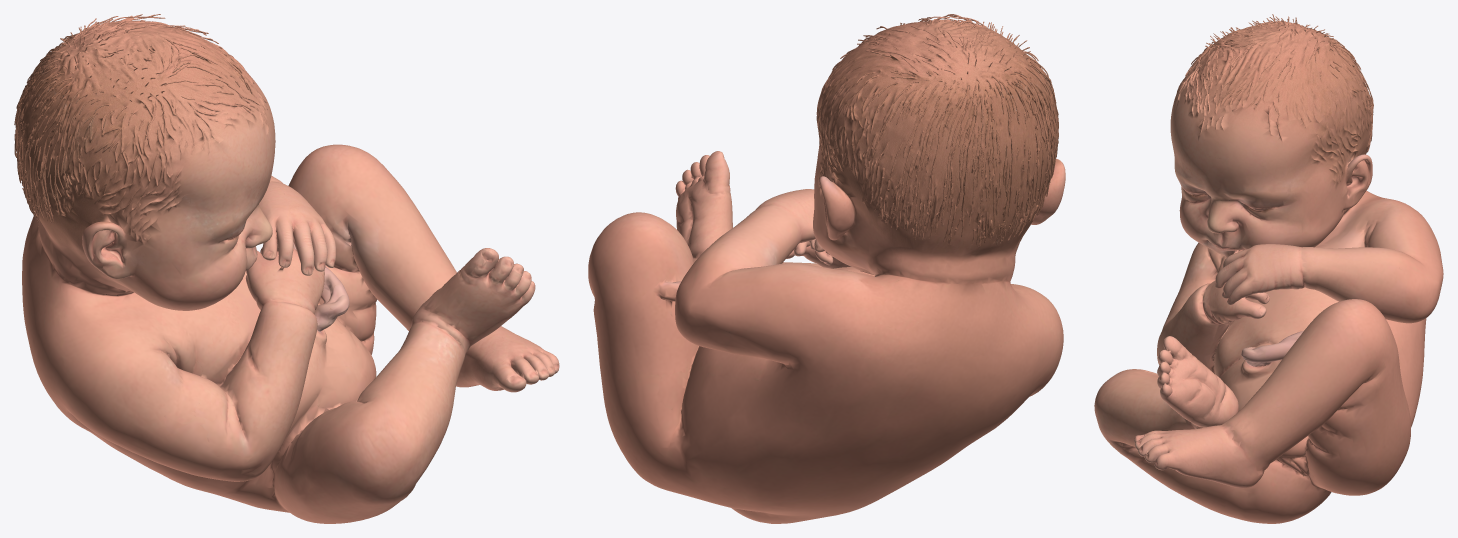
File: semaine-40.glb
3 views of the same model, side by side, from view 1: azimuth 30°, elevation 25°; view 2: azimuth 150°, elevation 25°; view 3: azimuth 270°, elevation 25° (orthographic). The views are drawn at different scales.
Size of the model in its own units: 1.74 by 1.9 by 1.43.
1 material, 1 textured.
